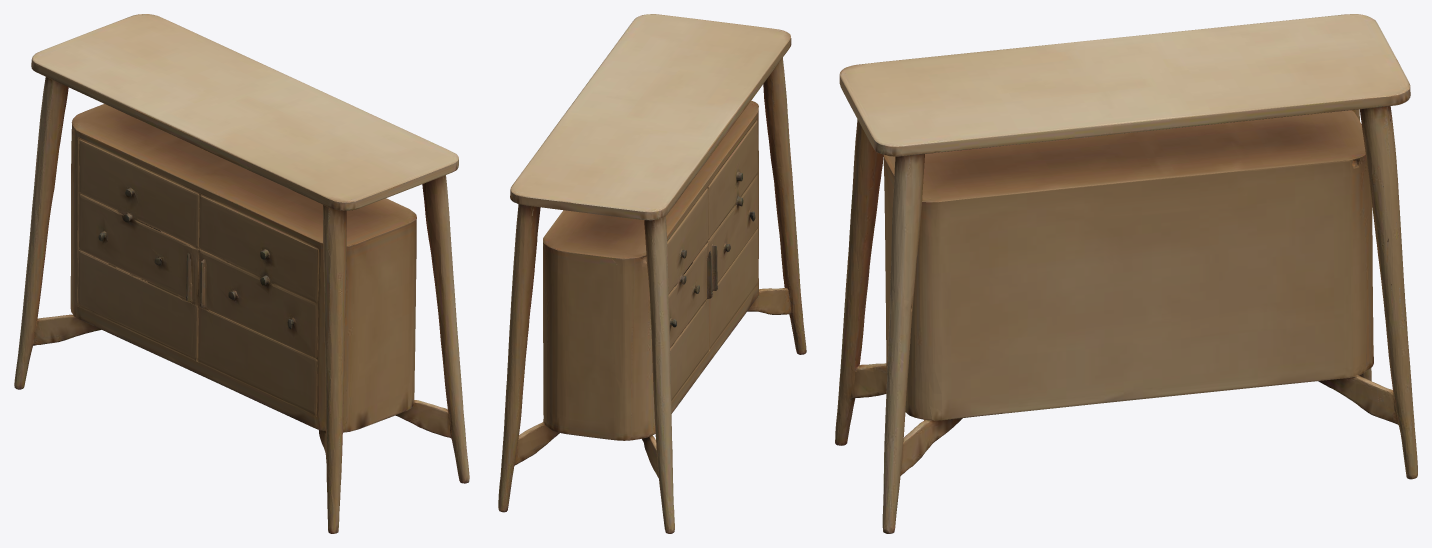
File: light_wood_console_table_000.glb
The picture shows the model from 3 angles, left to right: view 1: azimuth 30°, elevation 25°; view 2: azimuth 150°, elevation 25°; view 3: azimuth 270°, elevation 25°; orthographic projection. The views are drawn at different scales.
Parts seen in each view (by area): view 1: phase2_final_light_wood_console_table_000.obj; view 2: phase2_final_light_wood_console_table_000.obj; view 3: phase2_final_light_wood_console_table_000.obj.
Boxes of the visible parts, bbox=[...] form: phase2_final_light_wood_console_table_000.obj: bbox=[14, 14, 469, 533]; phase2_final_light_wood_console_table_000.obj: bbox=[498, 14, 806, 533]; phase2_final_light_wood_console_table_000.obj: bbox=[835, 14, 1417, 533].
Bounding box in the file's own units: 0.3974 × 0.5026 × 0.6862.
1 material, 1 textured.
